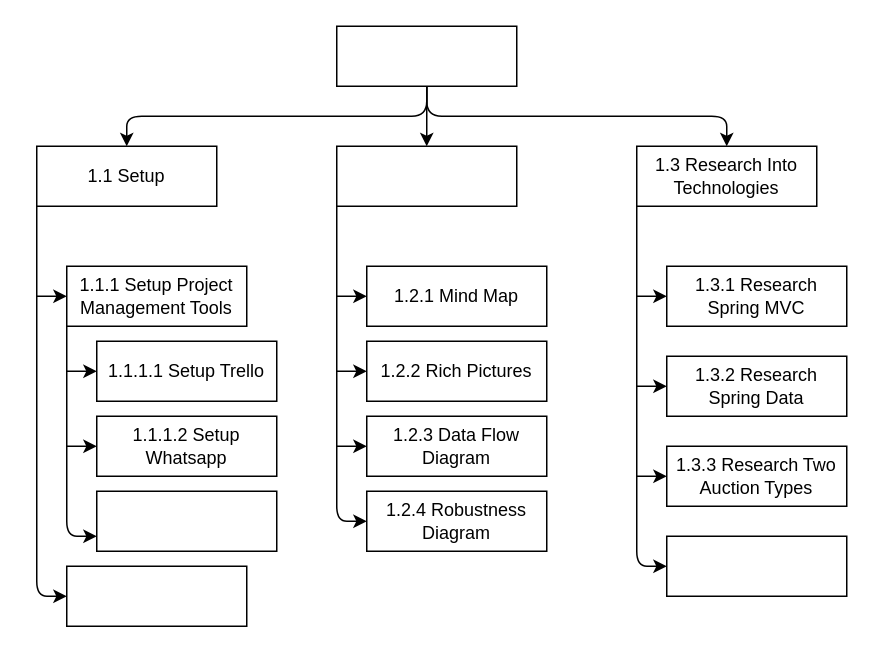
Some shapes in this 873 by 653 pixel diagram are drawn without their labels. The shapes that lost their labels are listed below. From the top down, each one's box as (x1, y1, x2, y2) in pixels, then its label:
(335, 25, 517, 86): 1 First Sprint
(335, 145, 517, 206): 1.2 Document Requirements
(95, 490, 277, 551): 1.1.1.3 Setup Github
(665, 535, 847, 596): 1.3.4 Research Web Sockets
(65, 565, 247, 626): 1.1.2 Create WBS
